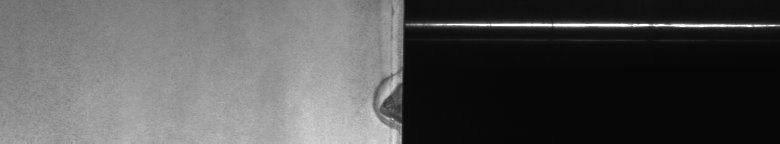hb: (364, 5, 392, 136)
